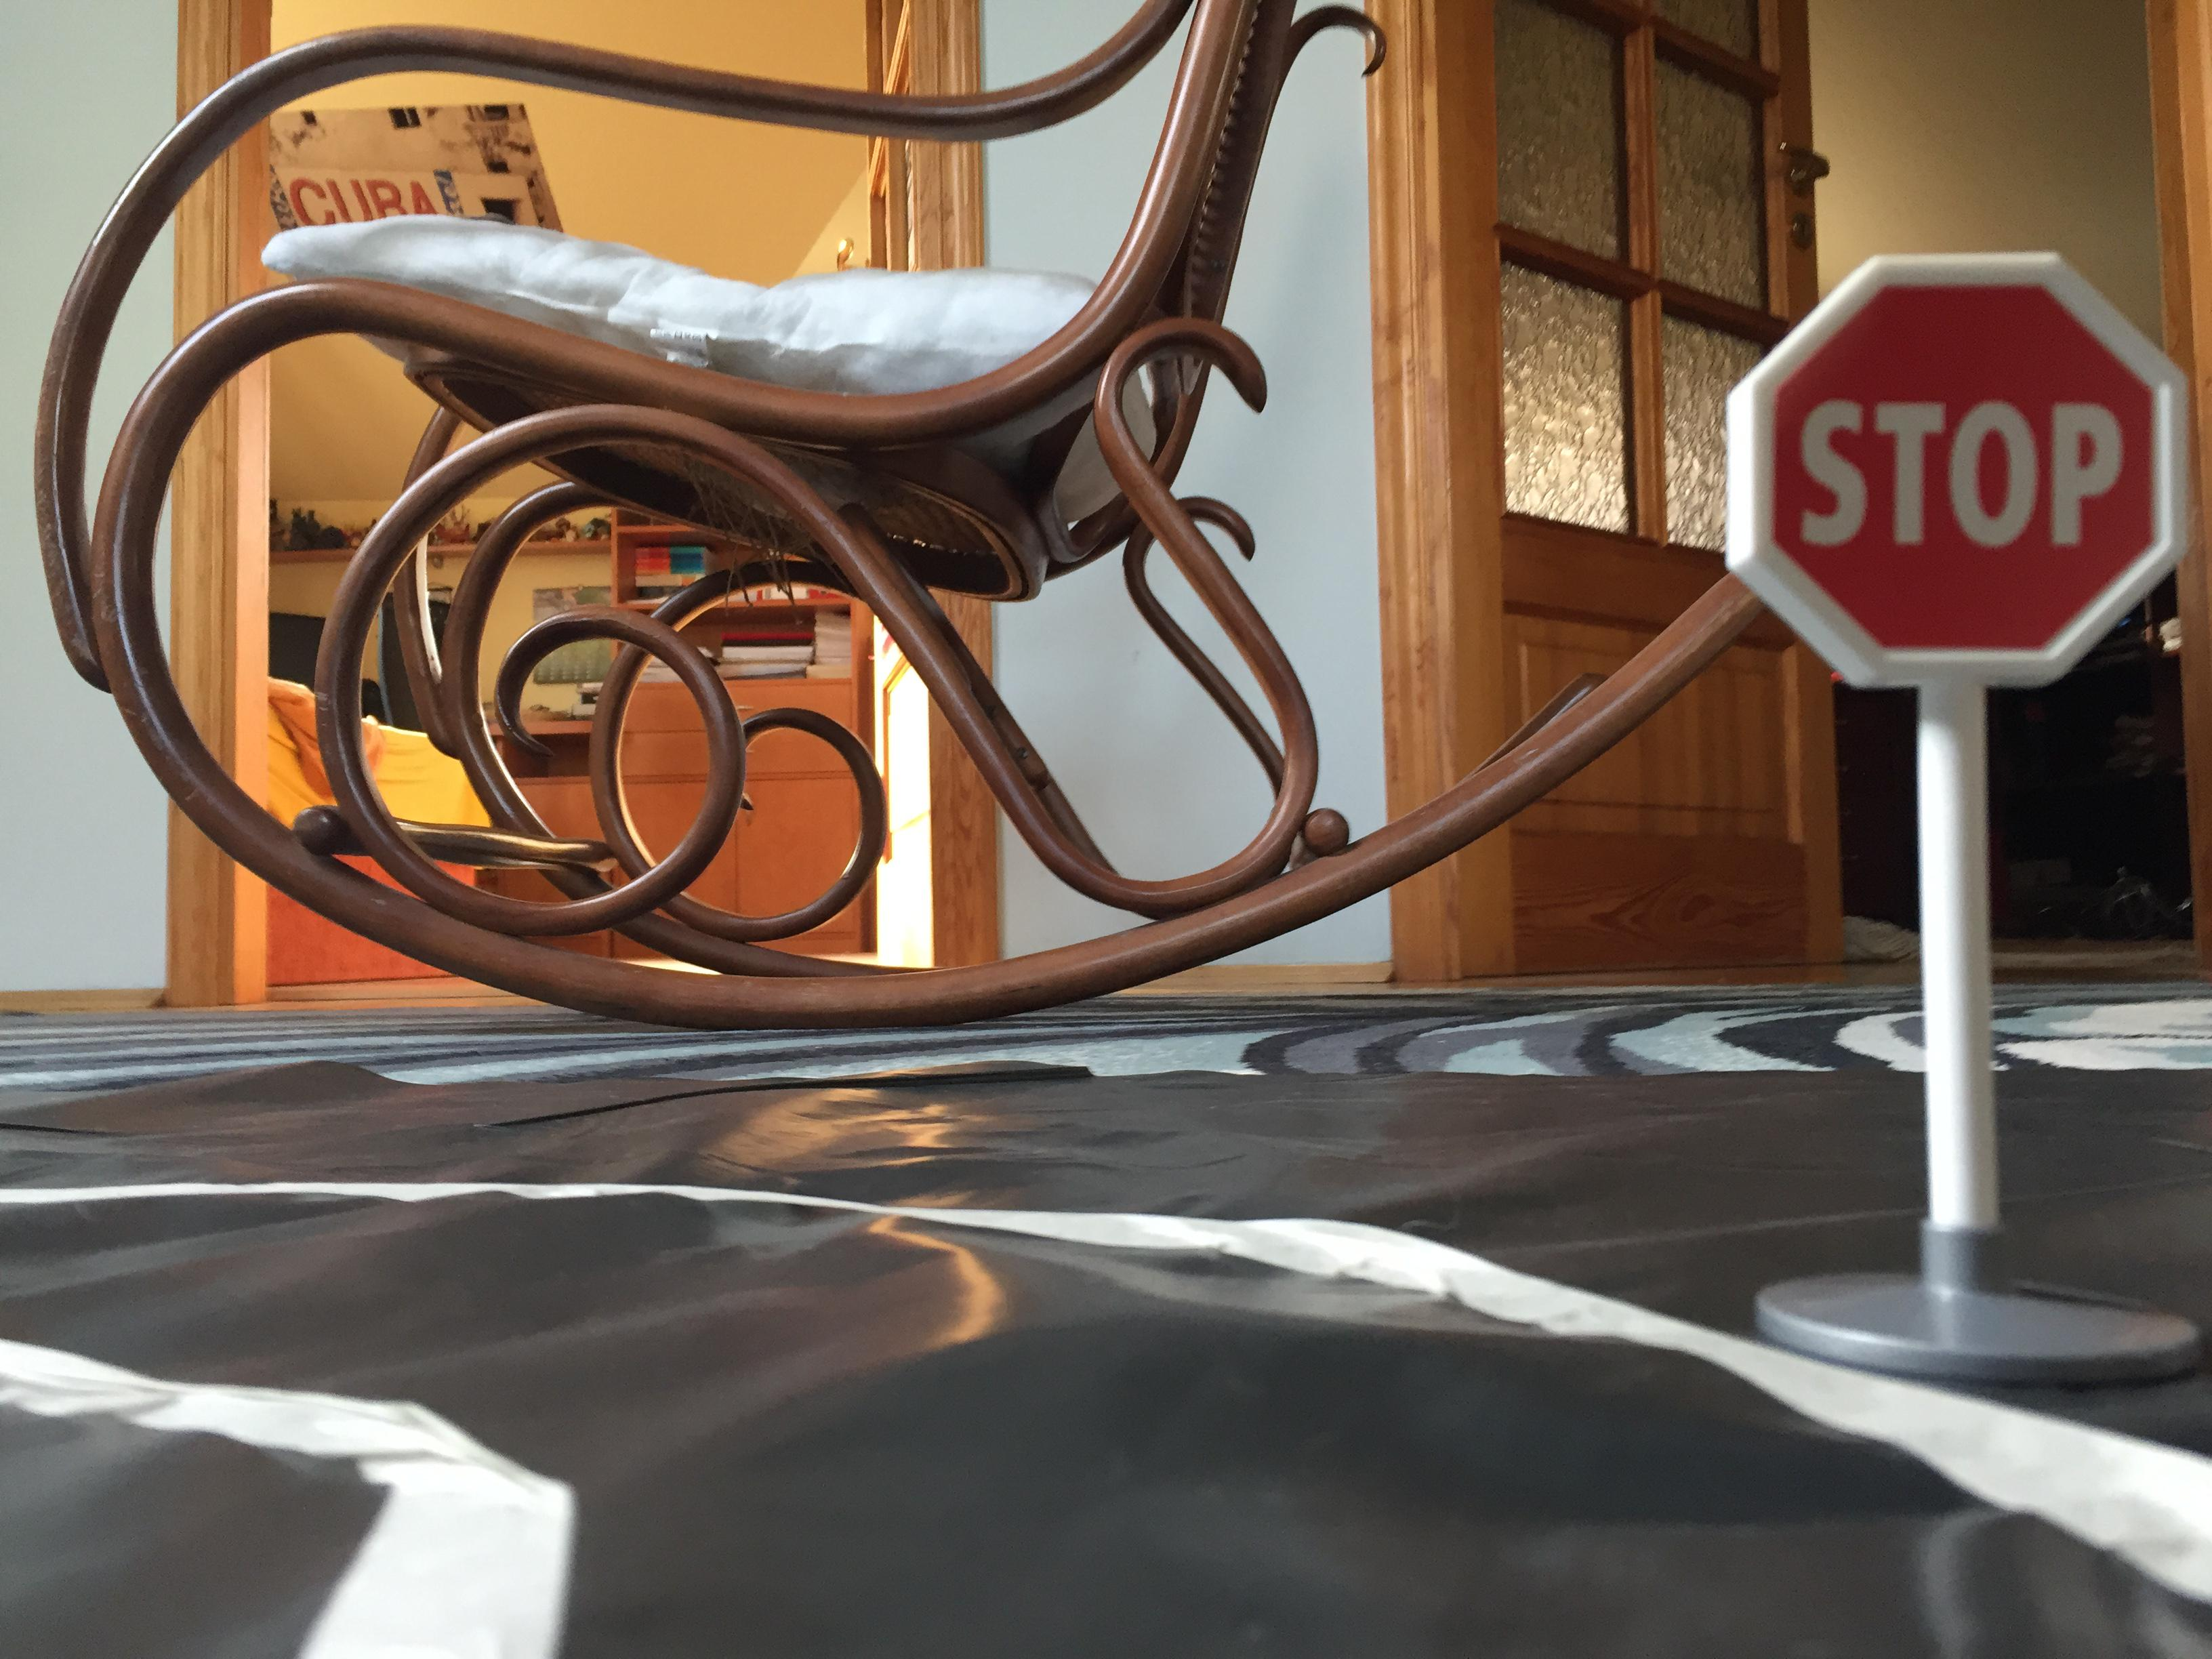stop: (1714, 232, 2205, 714)
